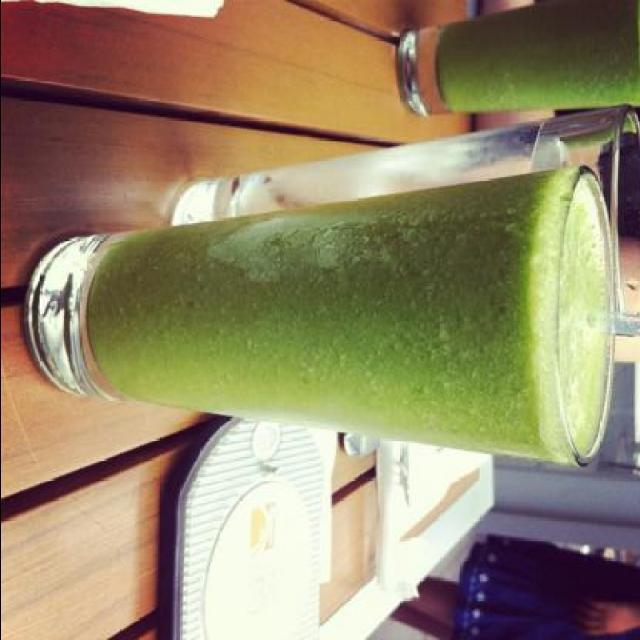Juice: (84, 166, 613, 466), (439, 0, 640, 112)
